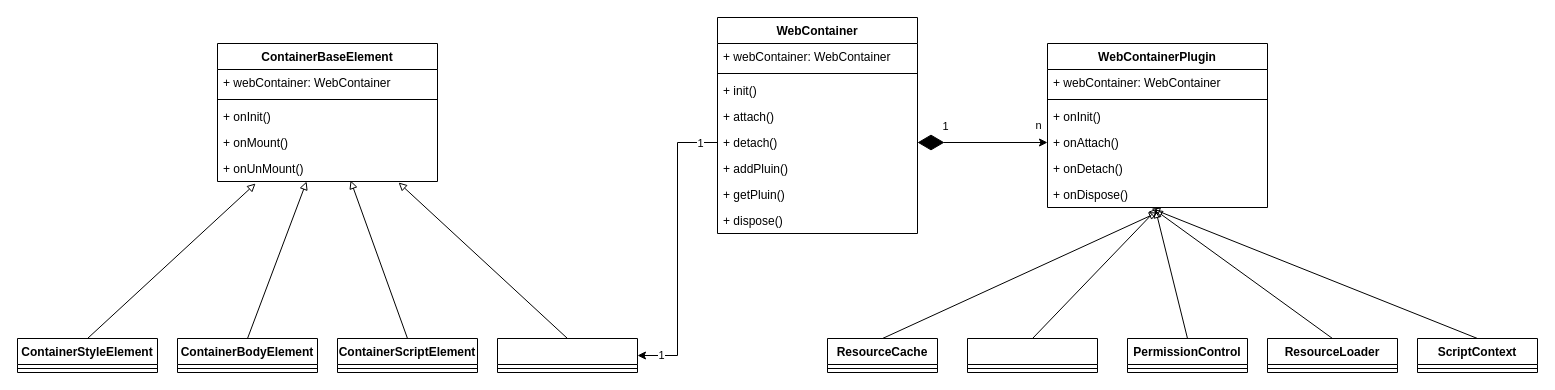
This 1555x390 diagram has some shape labels left out. Here are the shapes that lost their labels. From the top down, the centre of each, then its label:
At point (567, 355): "WebContainerElement".
At point (1032, 355): "DocumentInitiator".
